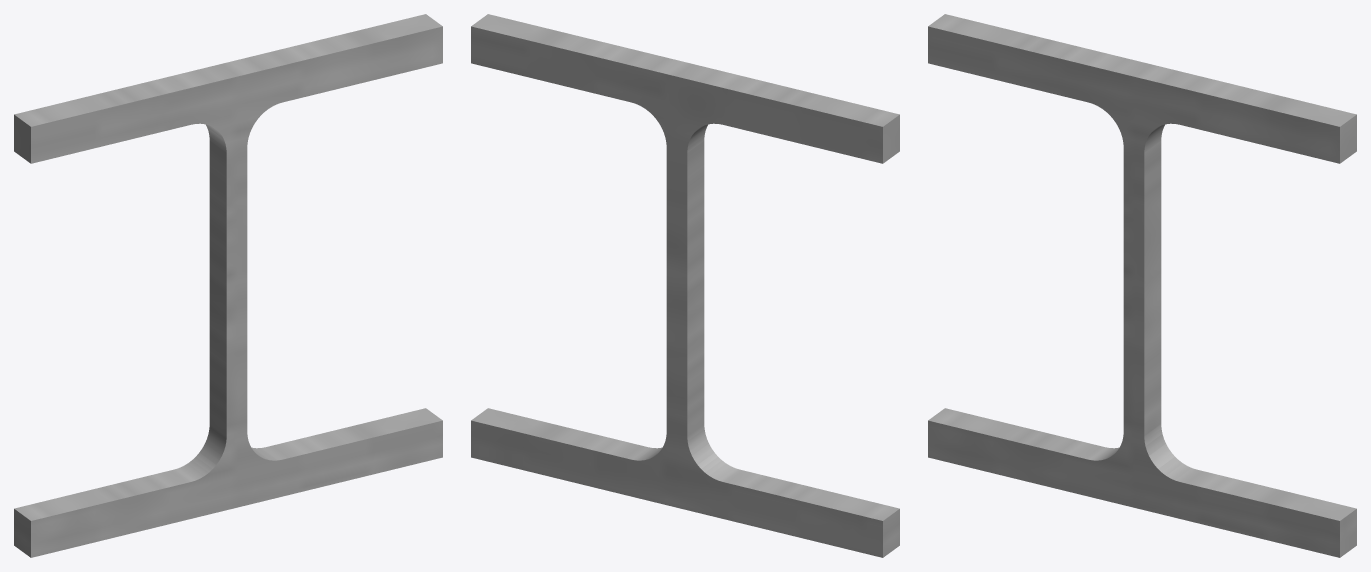
The model's file is HEB140.glb.
3 renders of one model, left to right at view 1: azimuth 30°, elevation 25°; view 2: azimuth 150°, elevation 25°; view 3: azimuth 330°, elevation 25°, orthographic.
Size of the model in its own units: 14 by 14 by 1.
1 material, 1 textured.
